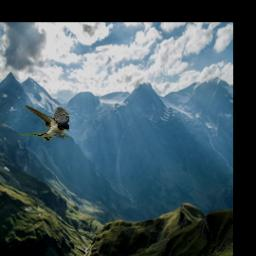Swallow: (20, 105, 70, 142)
